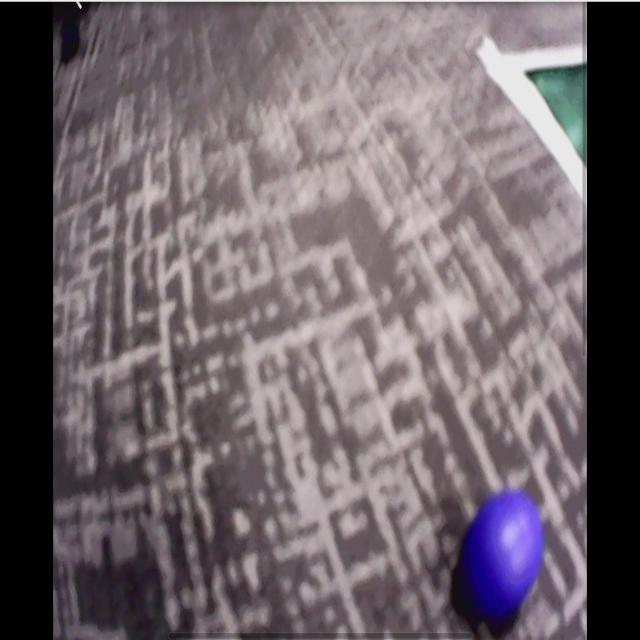ball: (467, 497, 548, 620)
